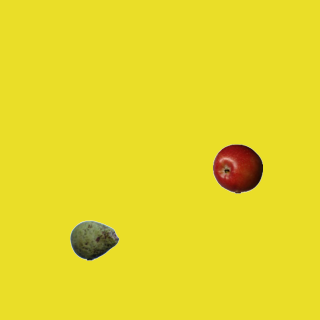Apple Braeburn: (212, 143, 262, 193)
Pear Stone: (69, 215, 119, 265)
